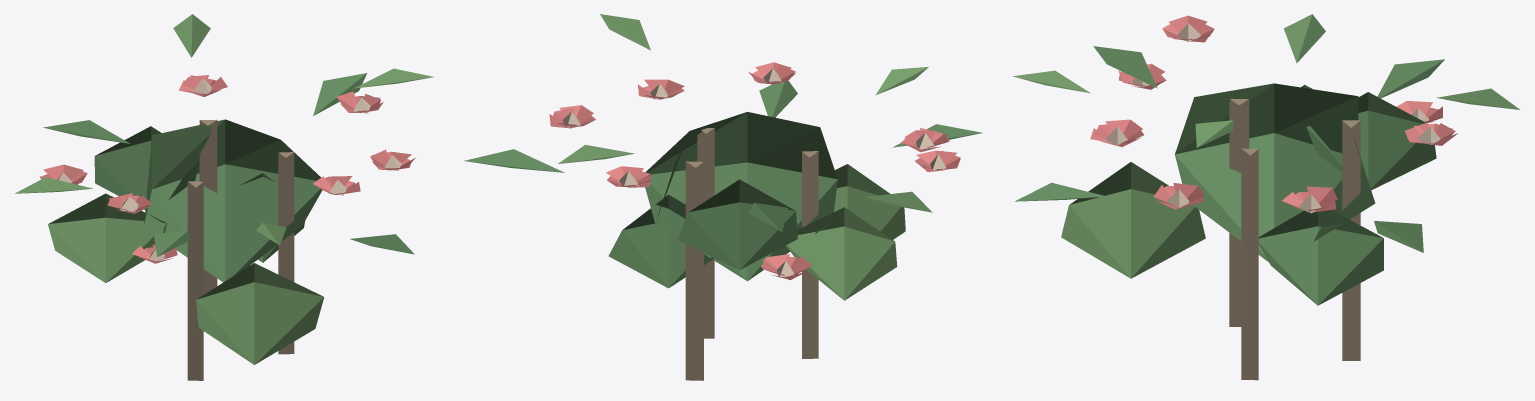
The model's file is guan.fusang__summer.glb.
The picture shows the model from 3 angles, left to right: view 1: azimuth 30°, elevation 25°; view 2: azimuth 150°, elevation 25°; view 3: azimuth 270°, elevation 25°; orthographic projection. The views are drawn at different scales.
Visible parts, largest first — view 1: guan.fusang__summer; view 2: guan.fusang__summer; view 3: guan.fusang__summer.
Boxes of the visible parts, x1,y1,x2,y2 form: guan.fusang__summer: [15, 14, 433, 380]; guan.fusang__summer: [464, 14, 982, 380]; guan.fusang__summer: [1013, 14, 1519, 380].
Size of the model in its own units: 3.57 by 2.28 by 3.42.
